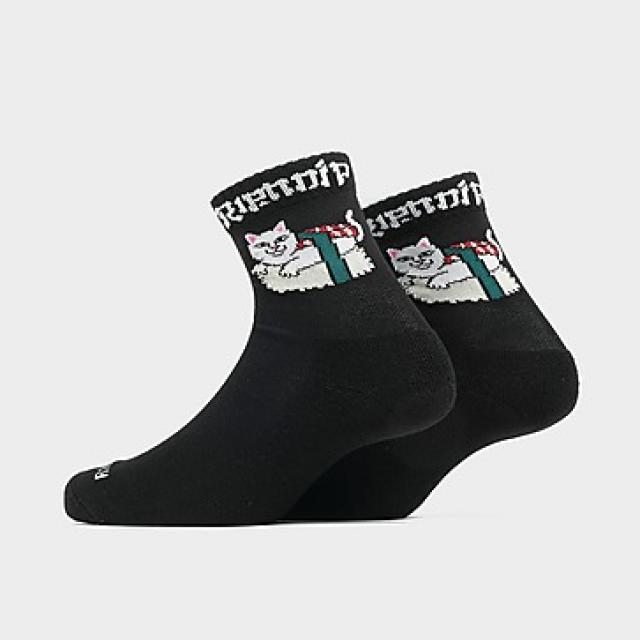sock: (61, 148, 456, 525), (277, 169, 578, 522)
